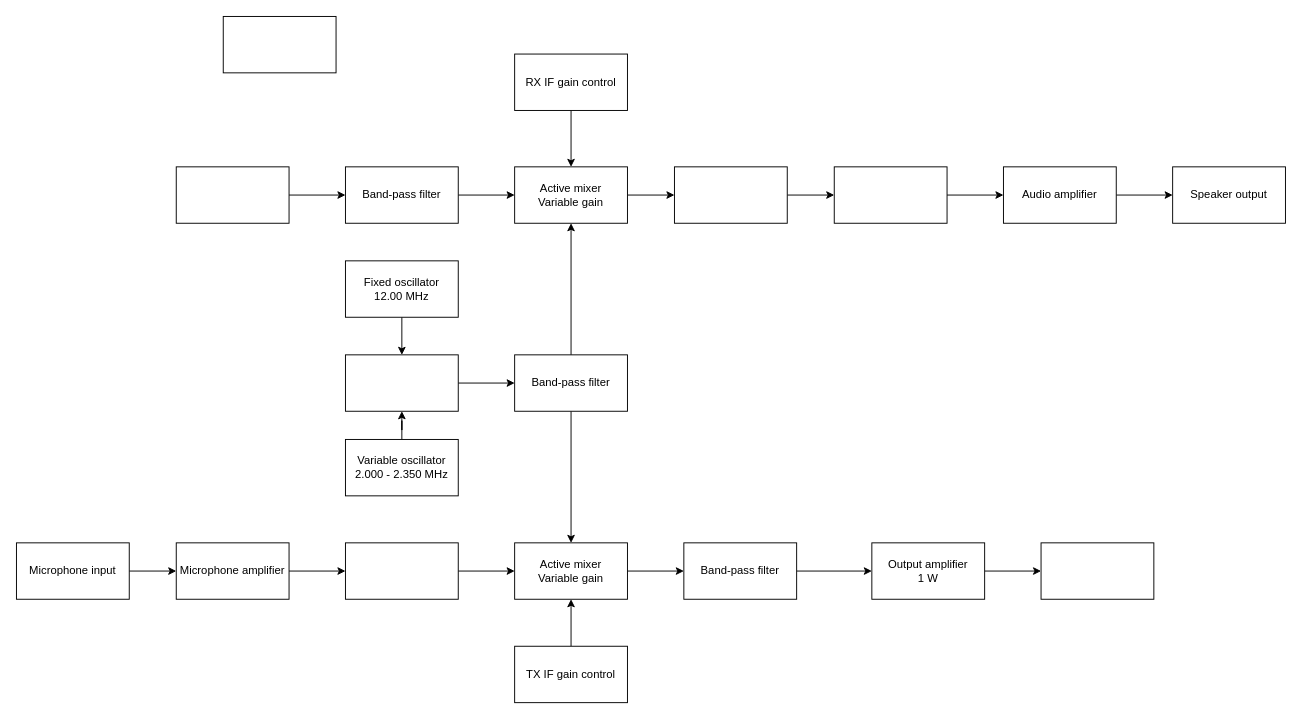
This 1302x719 diagram has some shape labels left out. Each missing label, with the centre of its shape:
"Low-pass filter" belongs at (x=730, y=194).
"Mixer" belongs at (x=401, y=382).
"Power supply 5 W" belongs at (x=279, y=44).
"RX antenna" belongs at (x=232, y=194).
"SSB demodulator" belongs at (x=890, y=194).
"SSB modulator" belongs at (x=401, y=570).
"TX antenna" belongs at (x=1097, y=570).
